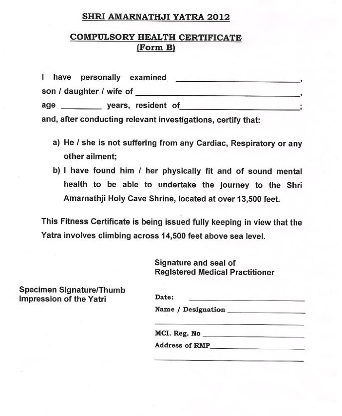textline: (149, 352, 306, 369), (134, 87, 304, 99), (170, 72, 303, 87), (184, 288, 306, 304), (151, 320, 307, 330), (177, 103, 304, 114), (200, 330, 306, 341), (208, 344, 309, 354), (223, 308, 308, 316), (57, 103, 107, 112)
